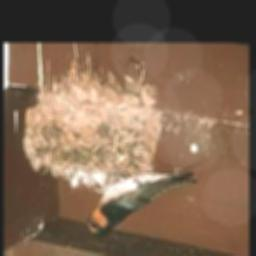Swallow: (86, 171, 197, 236)
